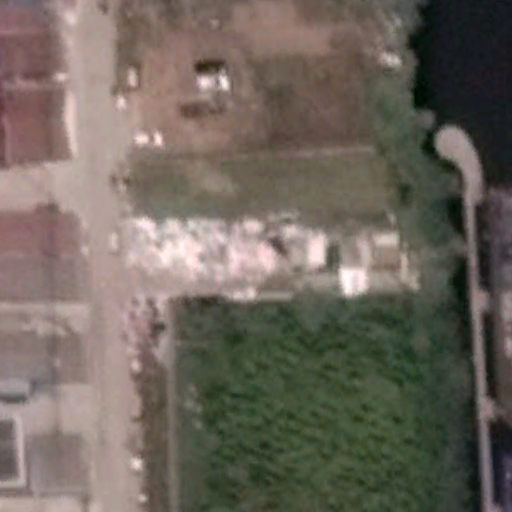msw: (120, 214, 329, 285)
